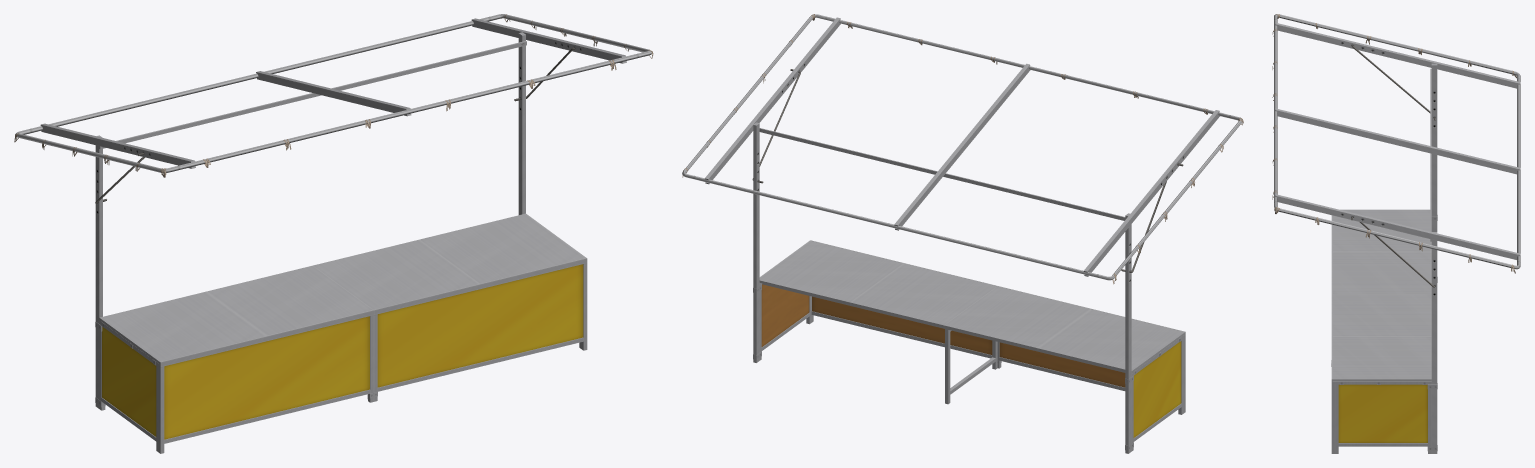
The model's file is jsf_2P_s04_c03_t01.fbx.
3 views of the same model, side by side, from view 1: azimuth 30°, elevation 25°; view 2: azimuth 150°, elevation 25°; view 3: azimuth 270°, elevation 25° (orthographic). The views are drawn at different scales.
Parts seen in each view (by area): view 1: Base_s04_c03, Table_2P_s04_t01, Pillar2_s04, Rope_2P_s04; view 2: Table_2P_s04_t01, Pillar2_s04, Base_s04_c03, Support; view 3: Table_2P_s04_t01, Pillar2_s04, Base_s04_c03, Rope_2P_s04.
Boxes of the visible parts, bbox=[...] form: Base_s04_c03: bbox=[95, 258, 587, 453]; Table_2P_s04_t01: bbox=[99, 213, 586, 365]; Pillar2_s04: bbox=[15, 14, 651, 408]; Rope_2P_s04: bbox=[14, 14, 653, 177]; Table_2P_s04_t01: bbox=[759, 240, 1184, 374]; Pillar2_s04: bbox=[682, 14, 1242, 453]; Base_s04_c03: bbox=[753, 240, 1185, 451]; Support: bbox=[945, 329, 997, 404]; Table_2P_s04_t01: bbox=[1332, 209, 1431, 384]; Pillar2_s04: bbox=[1274, 14, 1520, 453]; Base_s04_c03: bbox=[1331, 215, 1437, 453]; Rope_2P_s04: bbox=[1272, 14, 1516, 273].
Size of the model in its own units: 395 by 244 by 211.
